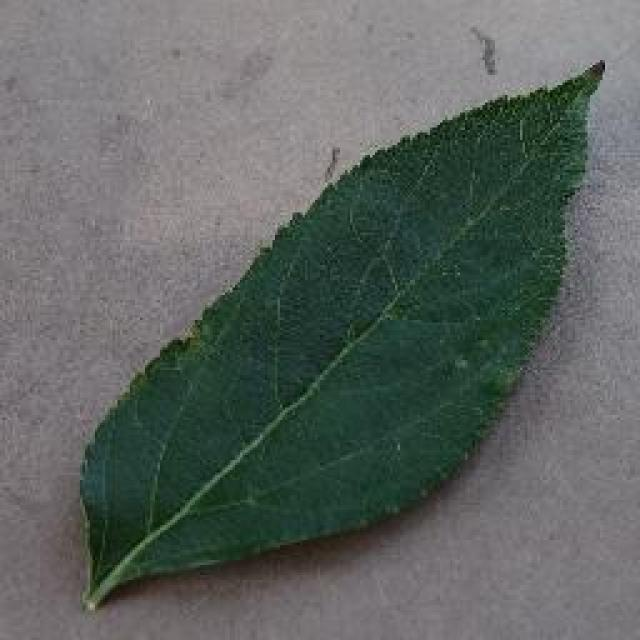apple scab disease: (75, 55, 607, 610)
